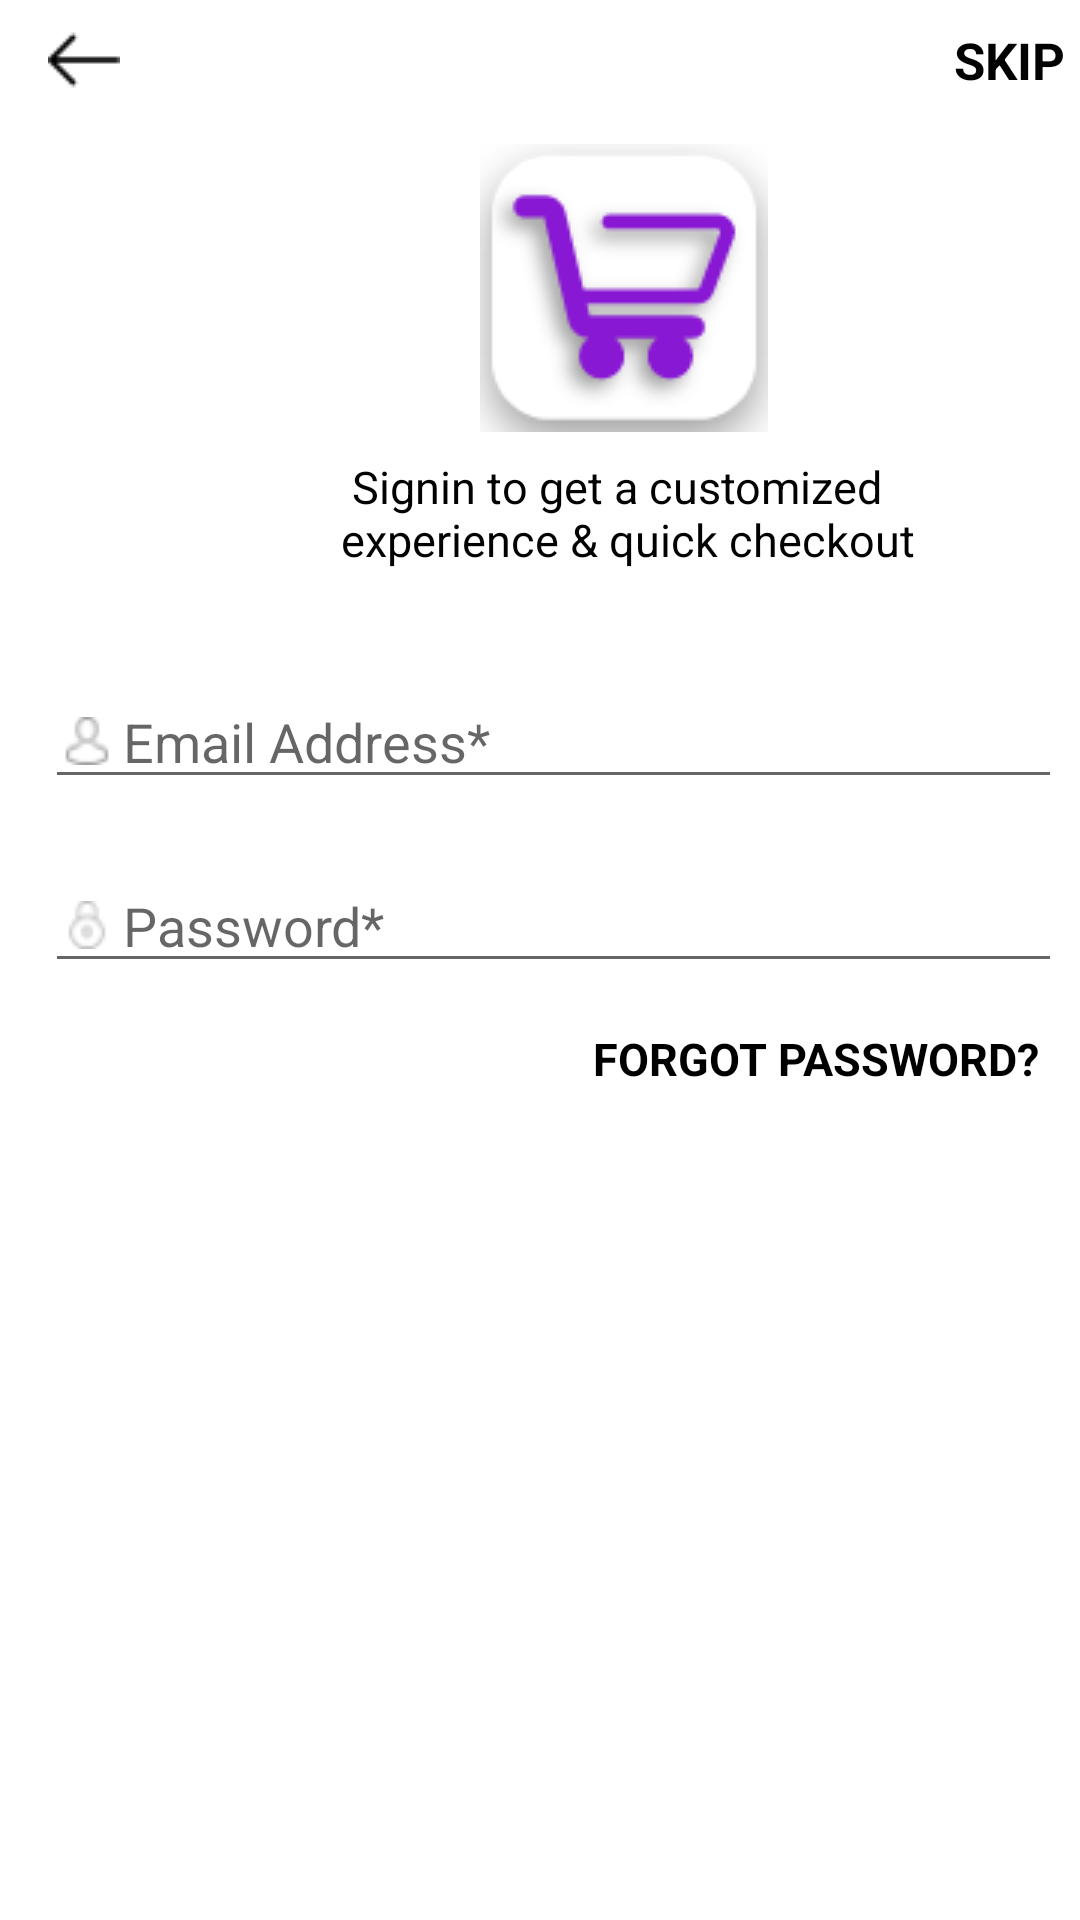

Point at icon controls on the screen. Image size 1080x1920, points as [x,y].
back: [84,60]
cart: [624,311]
